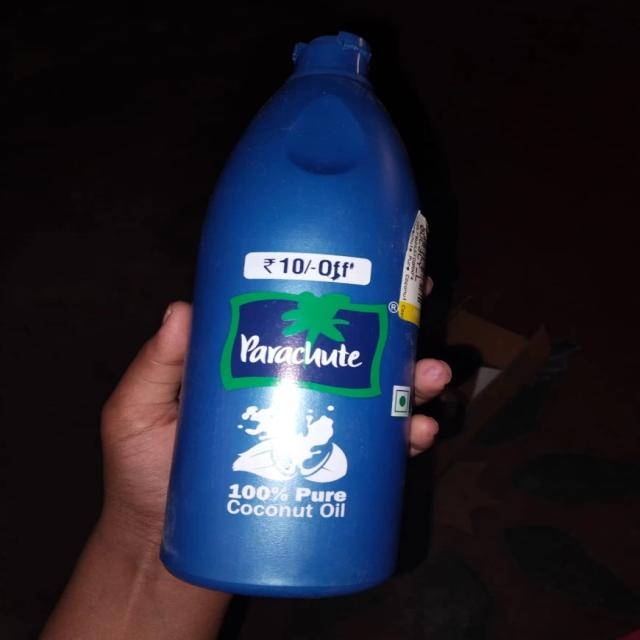parachute_oil: (166, 14, 424, 611)
